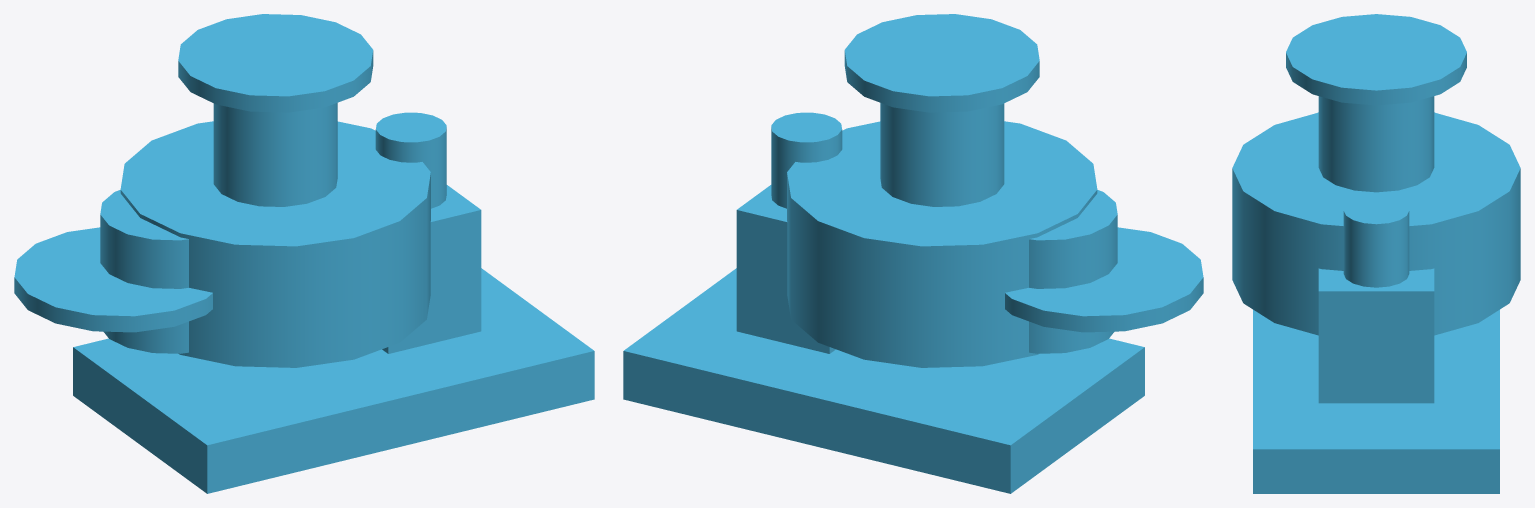
The model's file is pump.gltf.
3 views of the same model, side by side, from view 1: azimuth 30°, elevation 25°; view 2: azimuth 150°, elevation 25°; view 3: azimuth 270°, elevation 25° (orthographic). The views are drawn at different scales.
Parts seen in each view (by area): view 1: IndustrialWaterPump; view 2: IndustrialWaterPump; view 3: IndustrialWaterPump.
Boxes of the visible parts, x1=… form: IndustrialWaterPump: x1=14, y1=14, x2=594, y2=493; IndustrialWaterPump: x1=623, y1=14, x2=1203, y2=493; IndustrialWaterPump: x1=1232, y1=14, x2=1520, y2=493.
Bounding box in the file's own units: 12.9 × 8.8 × 7.
